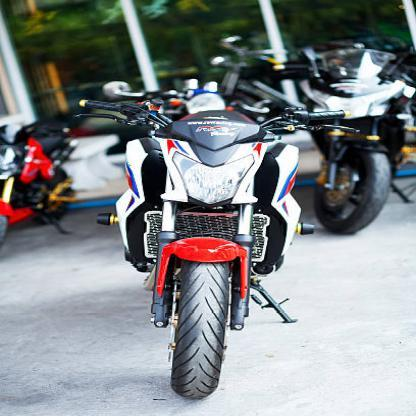Motorcycle: (70, 82, 313, 405)
